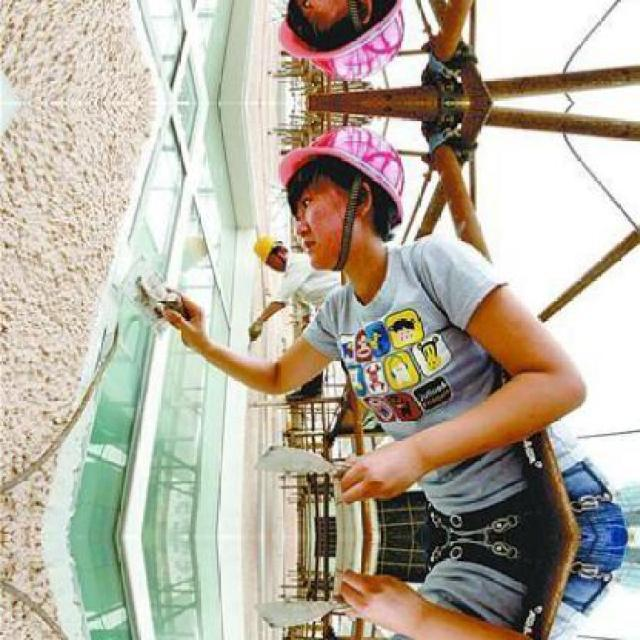helmet: (272, 118, 413, 210), (279, 2, 416, 84)
